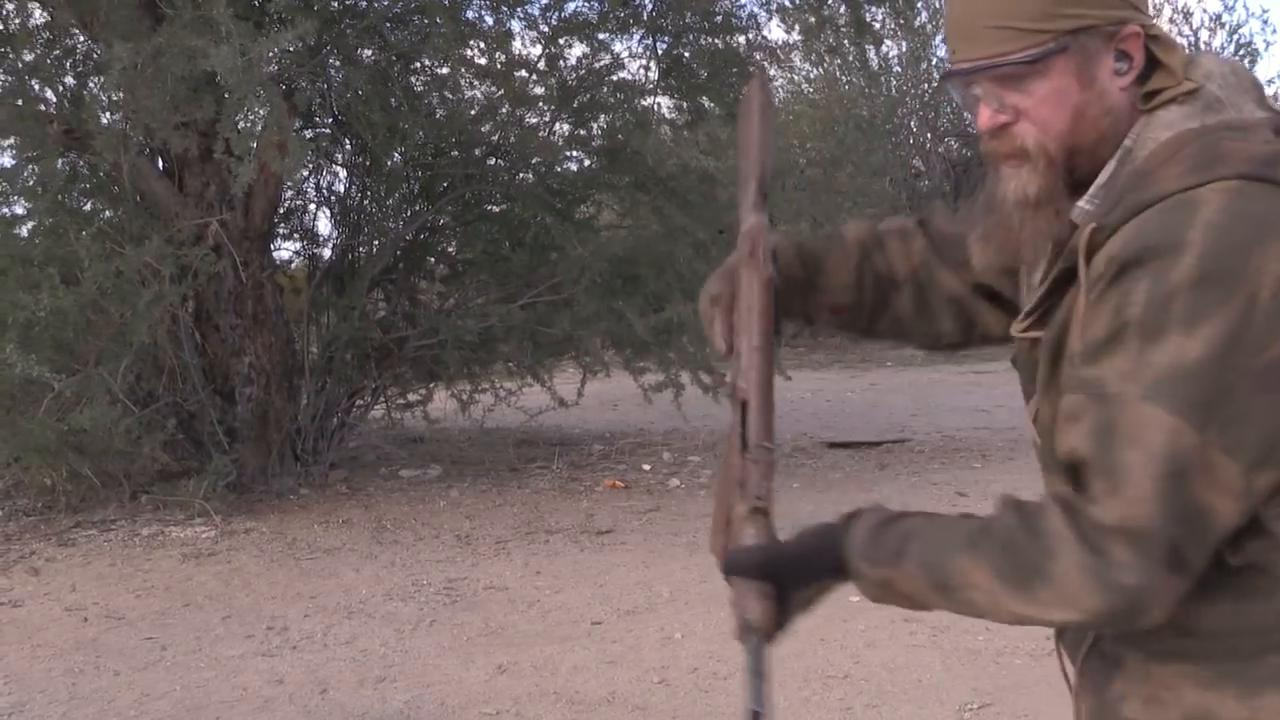AK47 Rifle: (715, 70, 788, 719)
